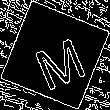M_NW: (24, 23, 86, 87)
